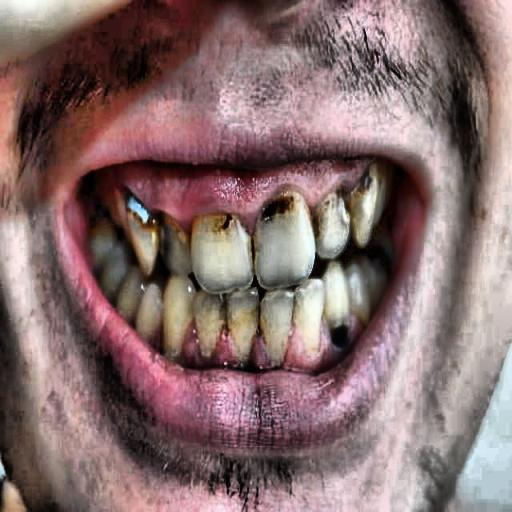Caries: (116, 182, 404, 250), (319, 304, 378, 360)
